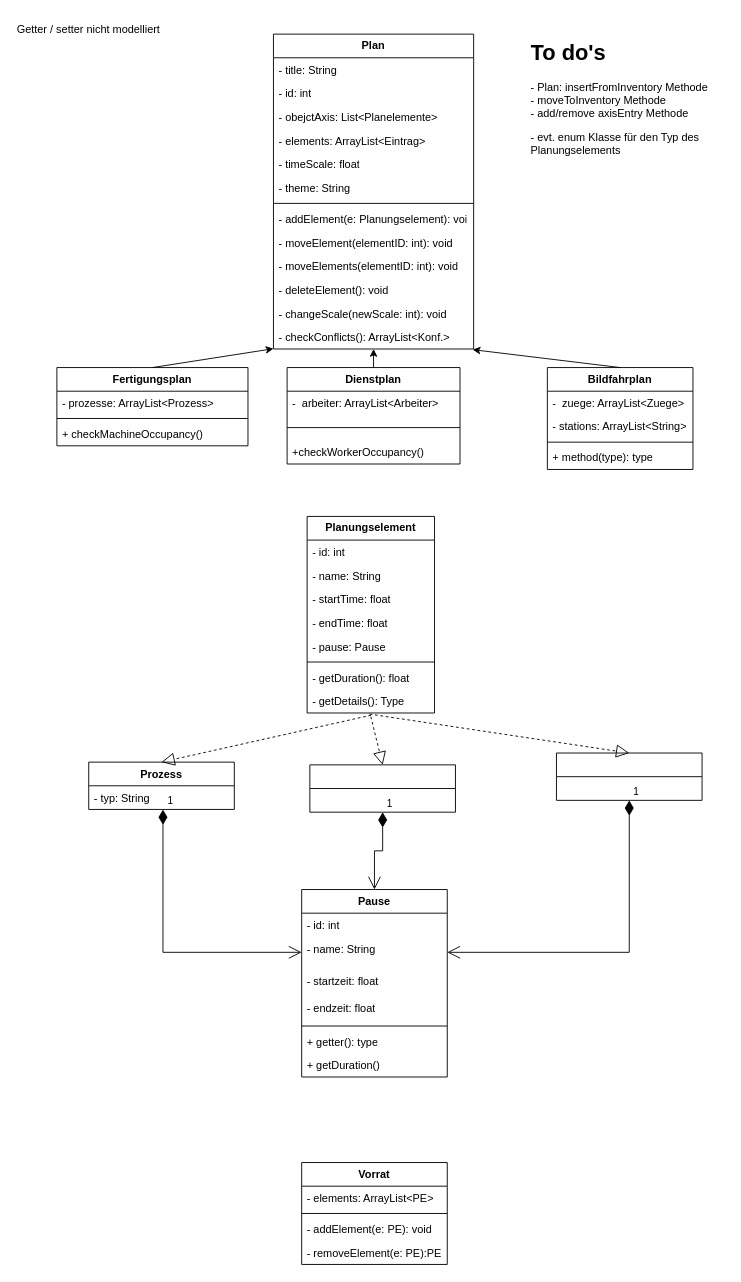
This 741x1282 diagram has some shape labels left out. The centre of each missing label's shape, as x and y in pixels:
Arbeiter: [382,788]
Zug: [629,776]
